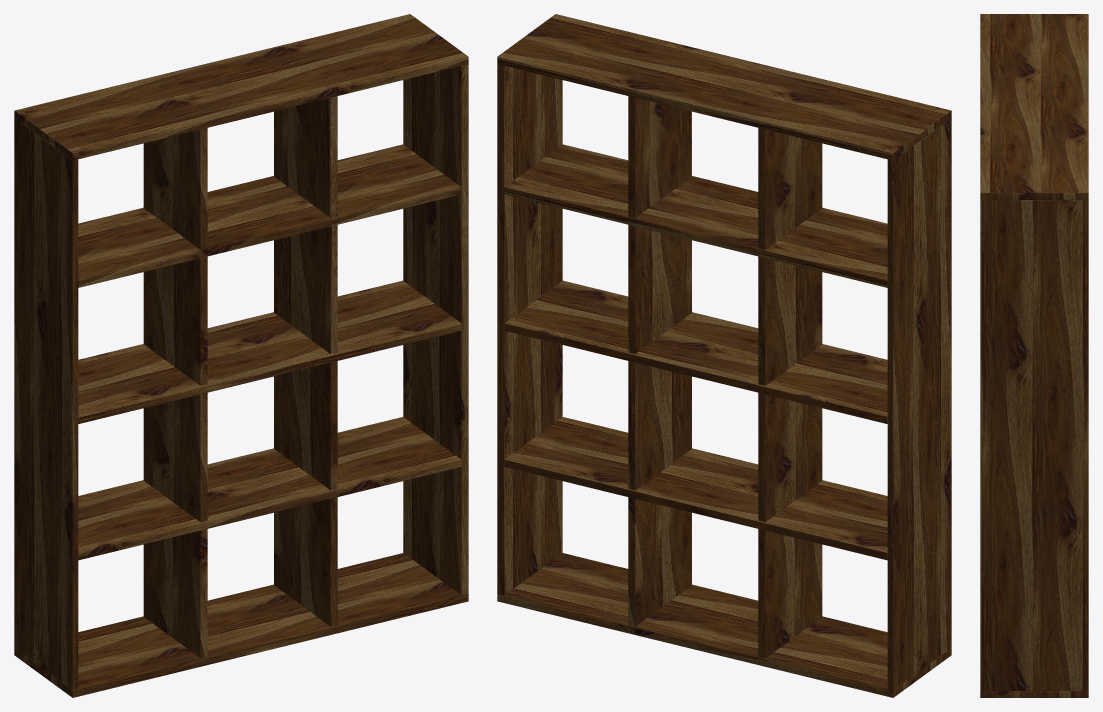
The model's file is solid_wood_bookcase..glb.
3 views of the same model, side by side, from view 1: azimuth 30°, elevation 25°; view 2: azimuth 150°, elevation 25°; view 3: azimuth 270°, elevation 25° (orthographic). The views are drawn at different scales.
Parts seen in each view (by area): view 1: Libreria_legno_massello_di_sheesham; view 2: Libreria_legno_massello_di_sheesham; view 3: Libreria_legno_massello_di_sheesham.
Boxes of the visible parts, x1,y1,x2,y2 form: Libreria_legno_massello_di_sheesham: (14, 14, 468, 697); Libreria_legno_massello_di_sheesham: (497, 14, 951, 697); Libreria_legno_massello_di_sheesham: (980, 14, 1088, 697).
Size of the model in its own units: 1.37 by 1.8 by 0.35.
Materials: 1 (1 with a texture image).
